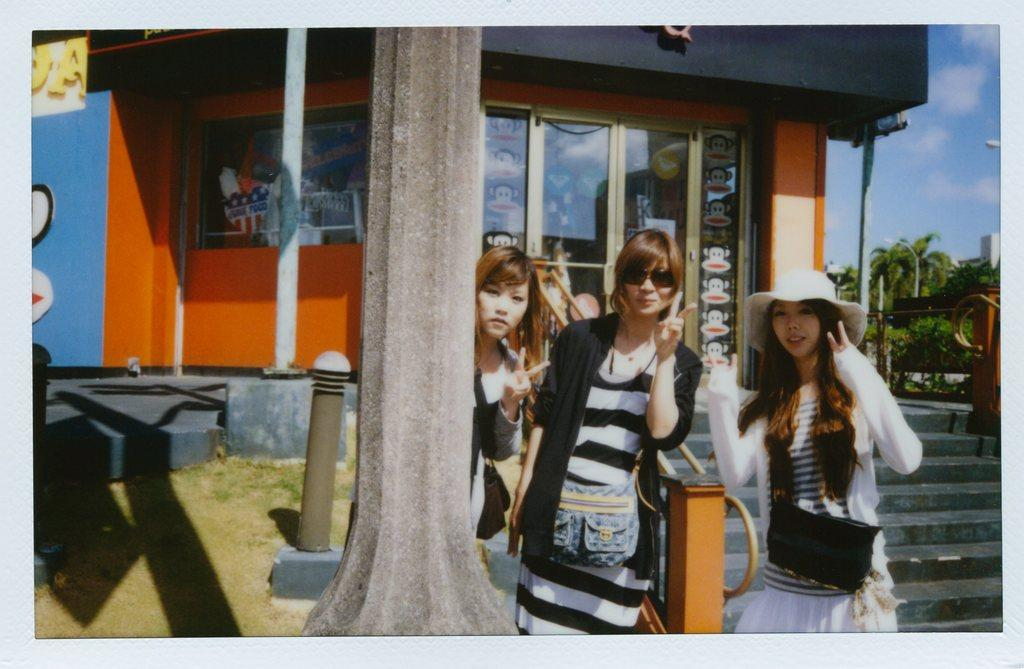Hat: (741, 271, 871, 354)
